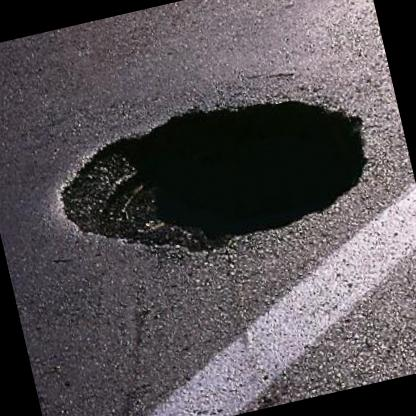pothole: (38, 65, 388, 286)
